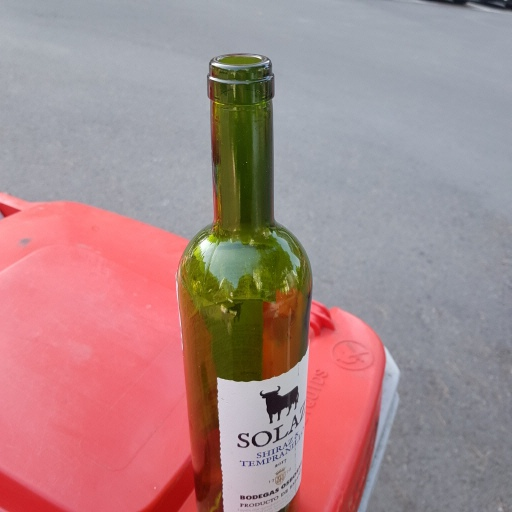Glass_2: (178, 51, 314, 512)
